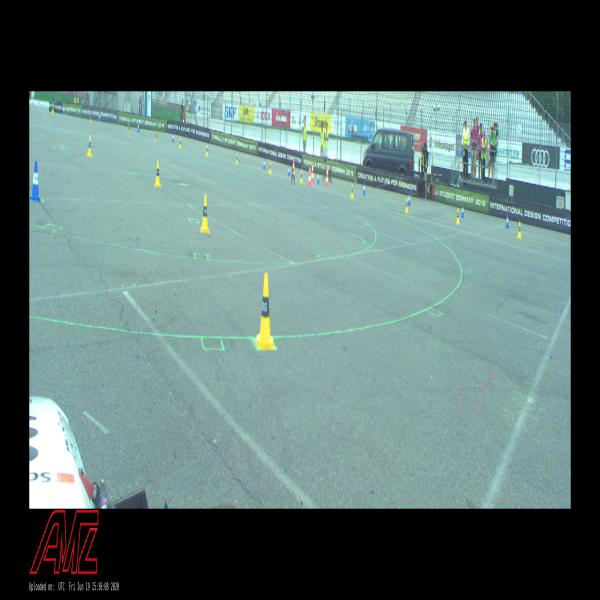blue_cone: (30, 161, 41, 201), (506, 214, 509, 228), (461, 204, 464, 217), (172, 132, 175, 142), (408, 193, 410, 205), (137, 123, 140, 131), (263, 158, 265, 169), (363, 183, 365, 194), (318, 172, 320, 183), (207, 142, 209, 153), (288, 165, 290, 175), (238, 152, 239, 163)
large_orange_cone: (325, 167, 329, 186), (292, 159, 295, 181), (308, 165, 311, 186), (311, 163, 314, 182)
yellow_cone: (255, 273, 275, 350), (200, 194, 210, 233), (154, 161, 161, 187), (87, 136, 92, 157), (517, 222, 521, 237), (456, 208, 459, 224), (300, 169, 303, 183), (405, 198, 408, 212), (179, 137, 182, 149), (351, 184, 353, 198), (206, 144, 208, 157), (269, 161, 271, 174), (236, 152, 238, 164), (155, 130, 157, 142), (128, 123, 130, 133)
